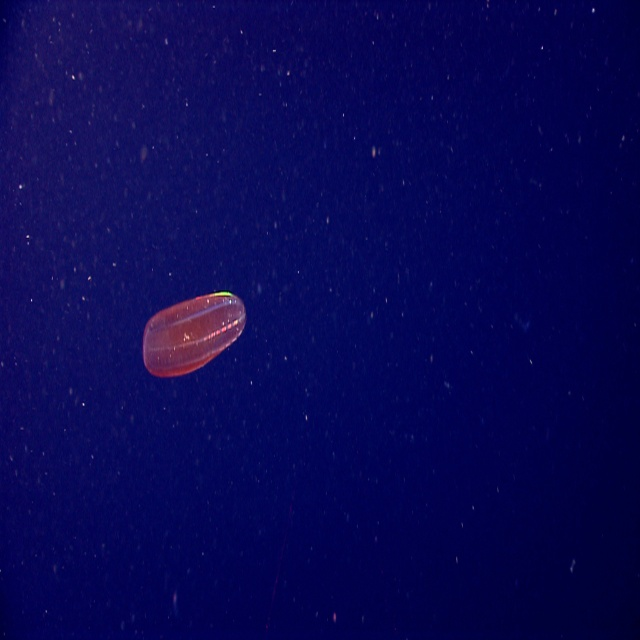Jellyfish: (132, 278, 246, 376)
